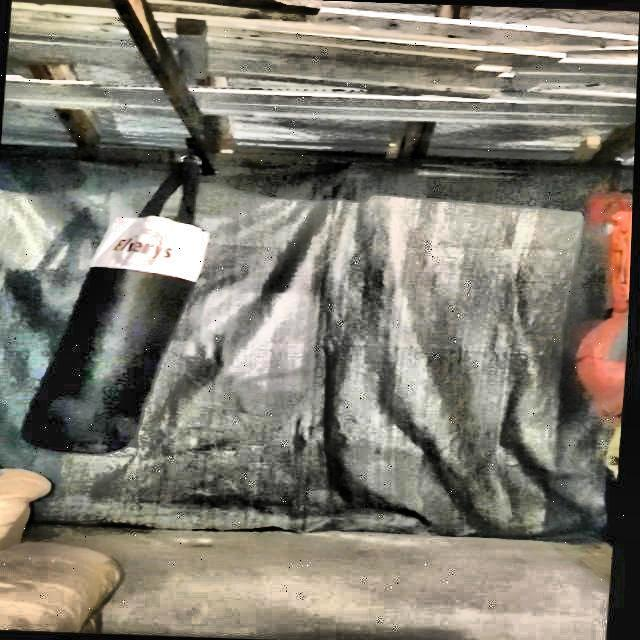boxing-bag: (19, 125, 217, 460)
